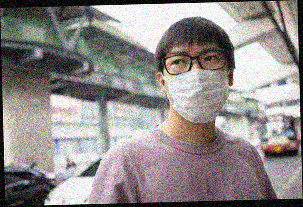with_mask: (164, 45, 231, 125)
